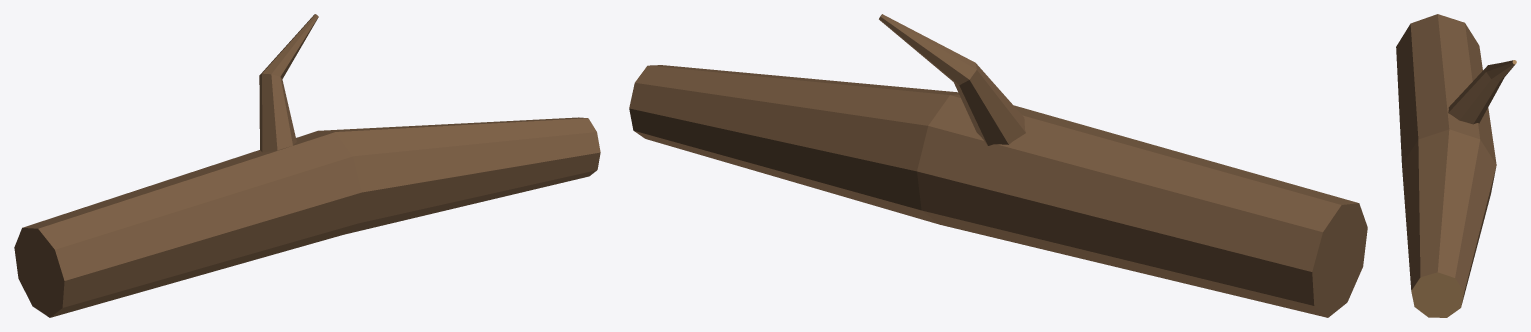
Rendered from deadfall.glb.
The picture shows the model from 3 angles, left to right: view 1: azimuth 30°, elevation 25°; view 2: azimuth 150°, elevation 25°; view 3: azimuth 270°, elevation 25°; orthographic projection. The views are drawn at different scales.
Parts seen in each view (by area): view 1: Dead cedar • broken limb; view 2: Dead cedar • broken limb; view 3: Dead cedar • broken limb.
Boxes of the visible parts, box(x1,y1,x2,y2) form: Dead cedar • broken limb: box(14, 14, 600, 317); Dead cedar • broken limb: box(629, 14, 1367, 317); Dead cedar • broken limb: box(1396, 14, 1516, 317).
Size of the model in its own units: 2.92 by 0.9567 by 0.6278.
